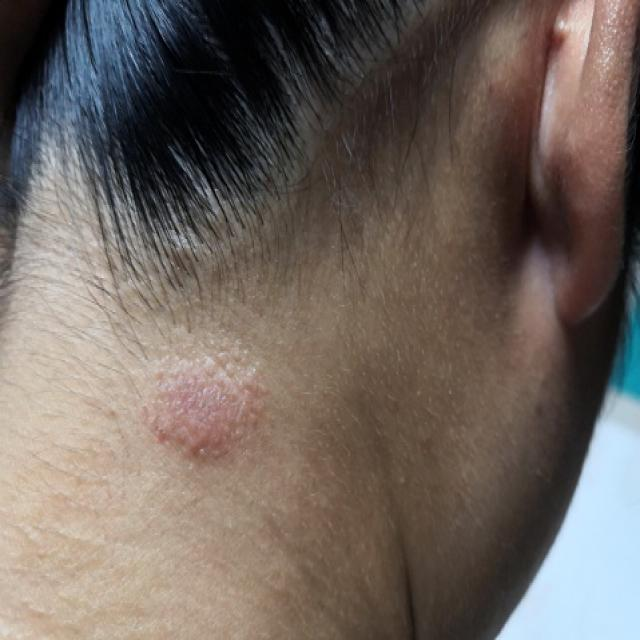eczema: (133, 330, 277, 474)
